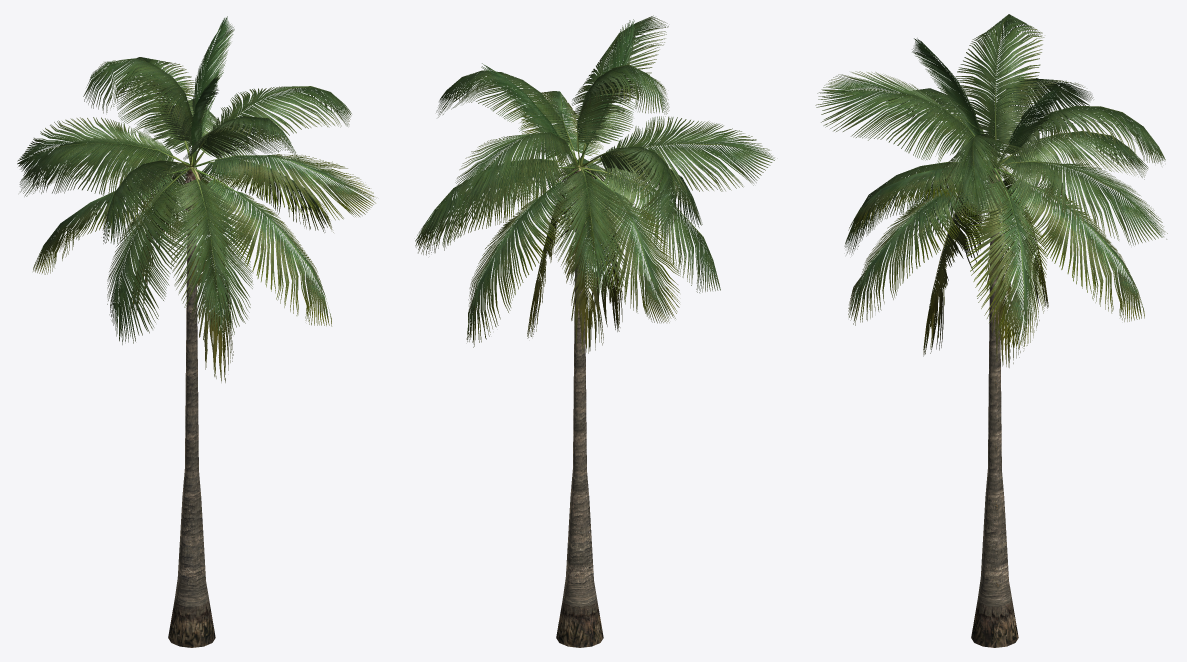
File: MK4_CocoPalm1.DAE
The picture shows the model from 3 angles, left to right: view 1: azimuth 30°, elevation 25°; view 2: azimuth 150°, elevation 25°; view 3: azimuth 270°, elevation 25°; orthographic projection.
Visible parts, largest first — view 1: MK4_Coco_Palm1; view 2: MK4_Coco_Palm1; view 3: MK4_Coco_Palm1.
Boxes of the visible parts, x1,y1,x2,y2 form: MK4_Coco_Palm1: [17, 16, 375, 647]; MK4_Coco_Palm1: [415, 15, 774, 647]; MK4_Coco_Palm1: [815, 14, 1167, 647].
Size of what is drawn, in the model's own units: 16.21 by 17.19 by 31.08.
